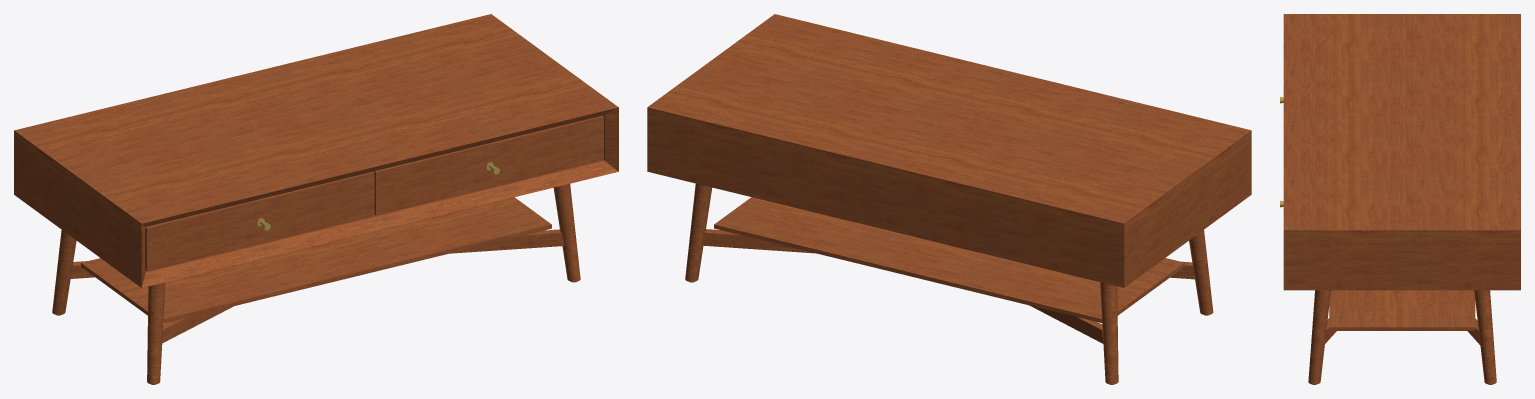
Rendered from West+Elm+-+Mid-Century+Storage+Coffee+Table+-+5051782.glb.
3 views of the same model, side by side, from view 1: azimuth 30°, elevation 25°; view 2: azimuth 150°, elevation 25°; view 3: azimuth 270°, elevation 25° (orthographic). The views are drawn at different scales.
Parts seen in each view (by area): view 1: ID98, ID83, ID112, ID112_node, ID8, ID45_node, ID67, ID45, ID67_node; view 2: ID98, ID83, ID45, ID8_node, ID67_node, ID8, ID67; view 3: ID98, ID83, ID8_node, ID45_node.
Boxes of the visible parts, x1,y1,x2,y2 form: ID98: (14,14,618,287); ID83: (81,197,551,323); ID112: (373,115,603,215); ID112_node: (145,171,374,271); ID8: (147,282,165,384); ID45_node: (553,183,580,281); ID67: (70,229,564,278); ID45: (52,230,76,314); ID67_node: (162,306,233,343); ID98: (647,14,1251,287); ID83: (714,197,1184,322); ID45: (1100,282,1118,384); ID8_node: (685,183,711,281); ID67_node: (702,229,1195,279); ID8: (1189,230,1213,314); ID67: (1030,305,1103,343); ID98: (1283,14,1520,290); ID83: (1329,290,1475,330); ID8_node: (1474,290,1496,384); ID45_node: (1308,290,1330,384).
Size of the model in its own units: 1.21 by 0.4318 by 0.5676.
Materials: 4 (2 with a texture image).
